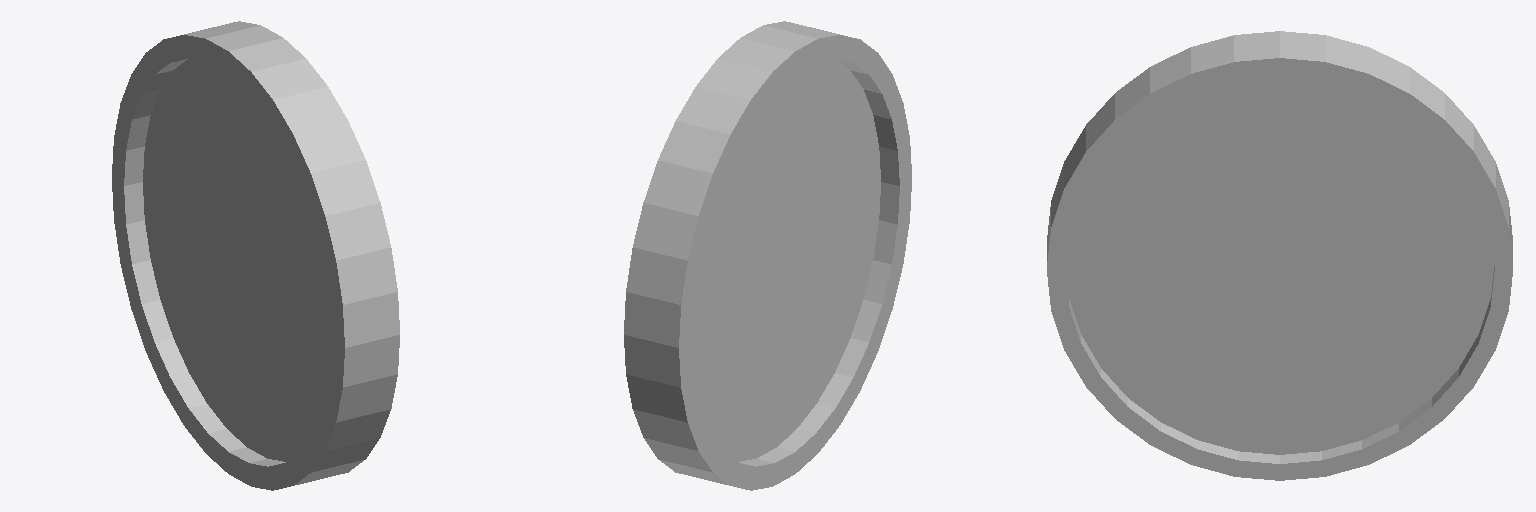
The model's file is Coins.obj.
The picture shows the model from 3 angles: view 1: azimuth 30°, elevation 25°; view 2: azimuth 150°, elevation 25°; view 3: azimuth 270°, elevation 25°; orthographic projection.
Visible parts, largest first — view 1: Cylinder; view 2: Cylinder; view 3: Cylinder.
Boxes of the visible parts, x1,y1,x2,y2 form: Cylinder: [112, 21, 399, 490]; Cylinder: [624, 21, 911, 490]; Cylinder: [1047, 31, 1512, 480].
Size of the model in its own units: 0.7137 by 5.23 by 5.23.